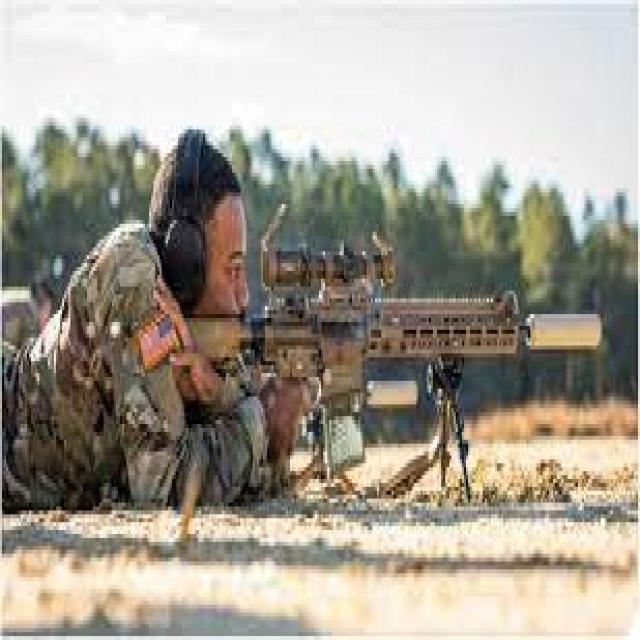rifle: (179, 213, 622, 461)
